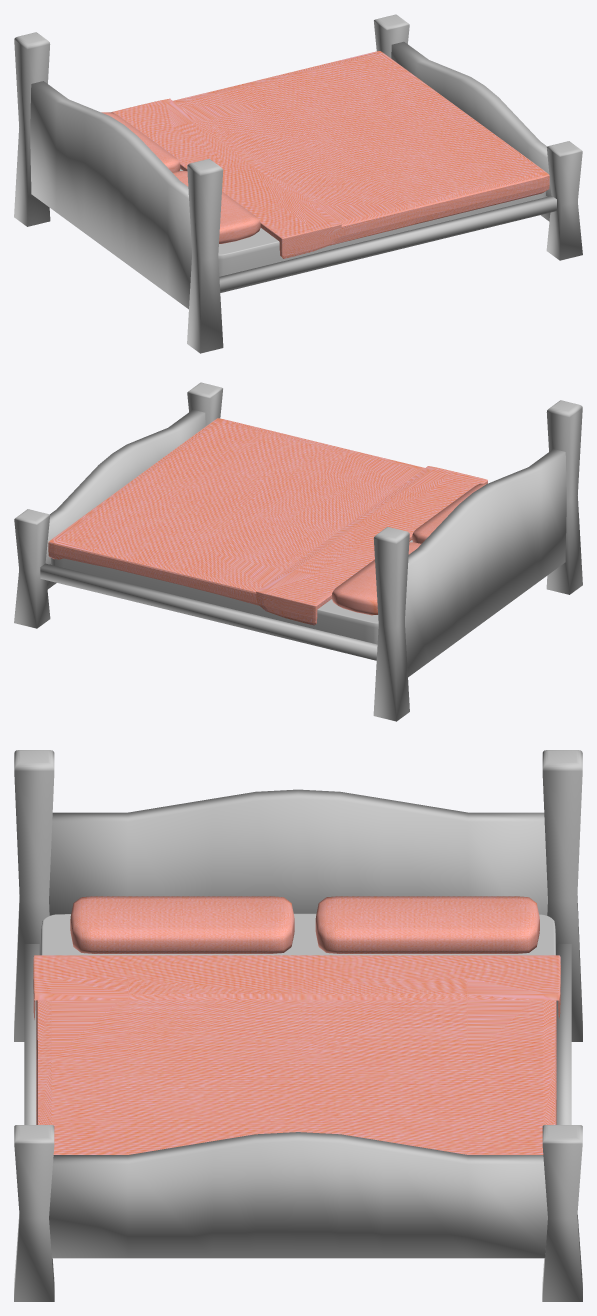
Rendered from DoubleBed.fbx.
3 views of the same model, one above another, from view 1: azimuth 30°, elevation 25°; view 2: azimuth 150°, elevation 25°; view 3: azimuth 270°, elevation 25° (orthographic). The views are drawn at different scales.
Parts seen in each view (by area): view 1: Cube.015, Cube.010, Cube.013, Cube.011, Cube.014; view 2: Cube.015, Cube.010, Cube.013, Cube.014, Cube.011; view 3: Cube.010, Cube.015, Cube.011, Cube.014, Cube.013.
Part boxes in pixels (x1,y1,x2,y2): Cube.015: (111,51,549,258); Cube.010: (14,14,582,353); Cube.013: (179,169,546,276); Cube.011: (172,171,260,243); Cube.014: (101,112,180,172); Cube.015: (48,418,487,625); Cube.010: (14,382,582,721); Cube.013: (50,540,412,644); Cube.014: (332,542,421,615); Cube.011: (412,483,486,543); Cube.010: (14,750,582,1301); Cube.015: (33,955,560,1154); Cube.011: (70,896,294,953); Cube.014: (315,896,539,953); Cube.013: (41,913,555,955).
Size of the model in its own units: 894 by 405 by 754.
